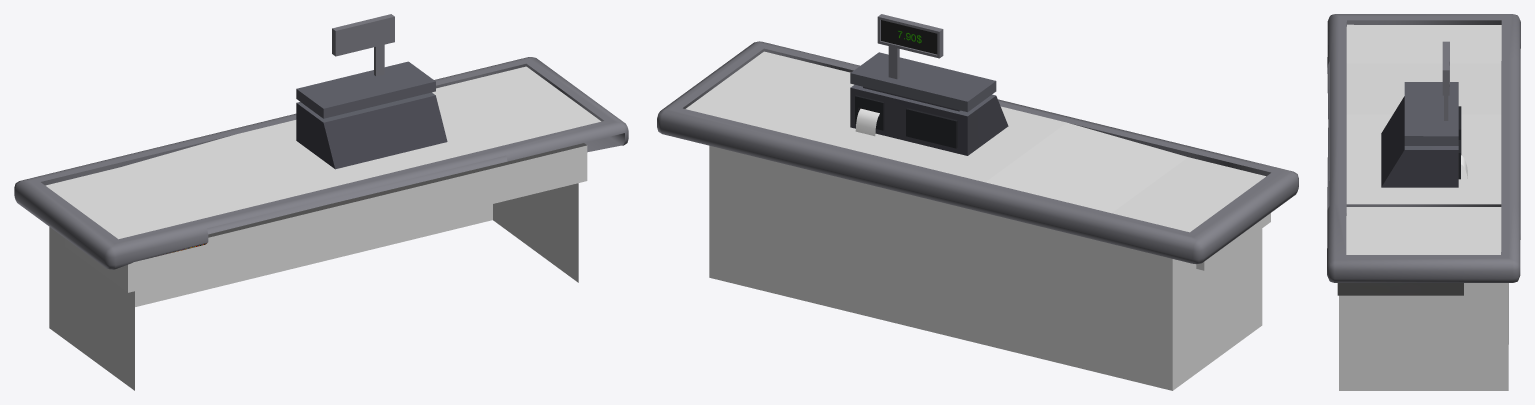
Rendered from Cash.fbx.
3 renders of one model, left to right at view 1: azimuth 30°, elevation 25°; view 2: azimuth 150°, elevation 25°; view 3: azimuth 270°, elevation 25°, orthographic. The views are drawn at different scales.
Visible parts, largest first — view 1: SM_Cash_Desk; view 2: SM_Cash_Desk; view 3: SM_Cash_Desk.
Boxes of the visible parts, left/top/right/bottom form: SM_Cash_Desk: left=14, top=14, right=628, bottom=390; SM_Cash_Desk: left=657, top=14, right=1298, bottom=390; SM_Cash_Desk: left=1327, top=14, right=1520, bottom=390.
Size of the model in its own units: 545 by 258 by 176.
